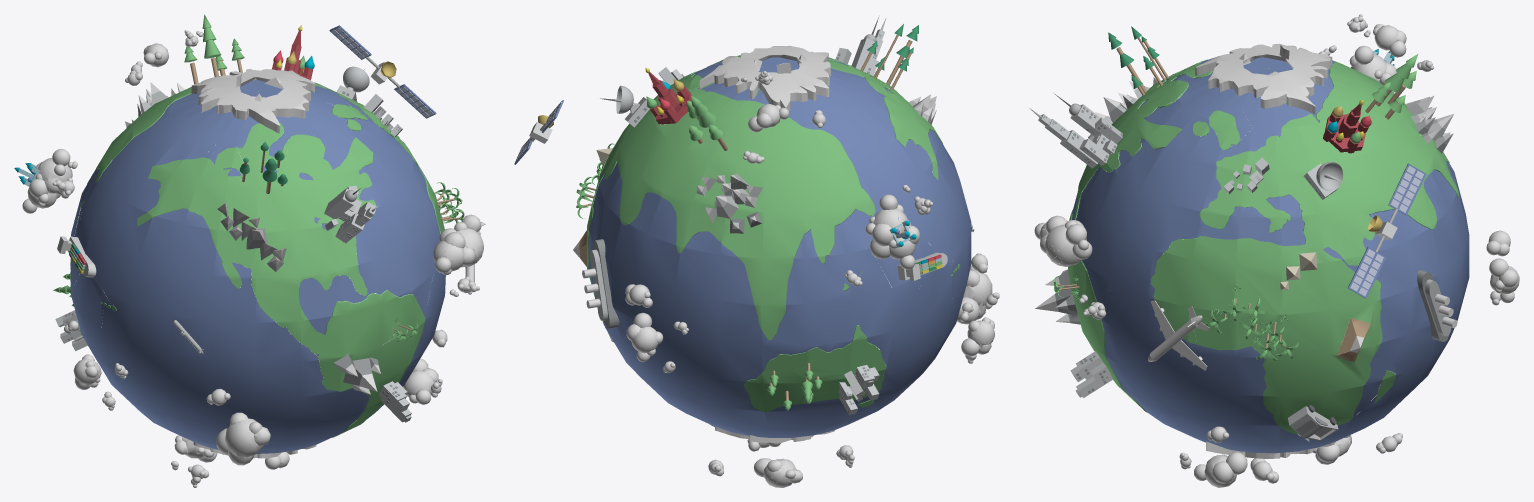
File: Traveling3D-transformed.glb
3 renders of one model, left to right at view 1: azimuth 30°, elevation 25°; view 2: azimuth 150°, elevation 25°; view 3: azimuth 270°, elevation 25°, orthographic. The views are drawn at different scales.
Parts seen in each view (by area): view 1: Mesh_Mesh_head_geo.001_lambert2SG.001_0; view 2: Mesh_Mesh_head_geo.001_lambert2SG.001_0; view 3: Mesh_Mesh_head_geo.001_lambert2SG.001_0.
Boxes of the visible parts, x1=… form: Mesh_Mesh_head_geo.001_lambert2SG.001_0: x1=14, y1=14, x2=485, y2=487; Mesh_Mesh_head_geo.001_lambert2SG.001_0: x1=514, y1=17, x2=999, y2=487; Mesh_Mesh_head_geo.001_lambert2SG.001_0: x1=1029, y1=14, x2=1519, y2=487.
Size of the model in its own units: 70.53 by 68.75 by 68.47.
